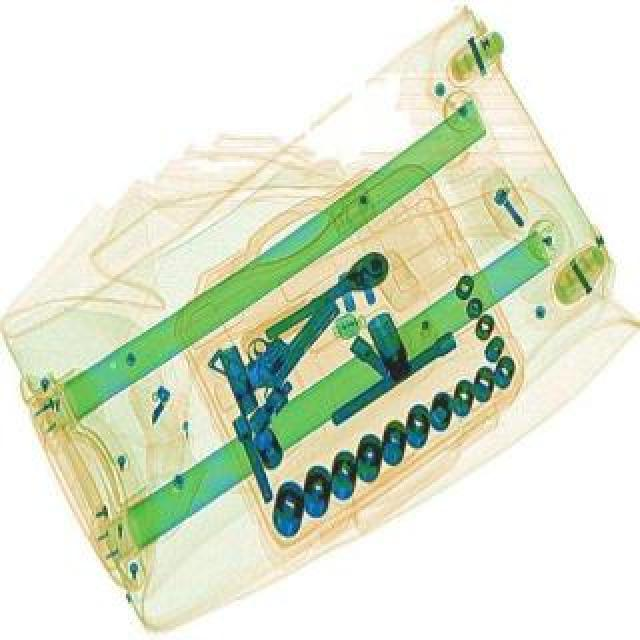gun: (204, 268, 344, 410)
